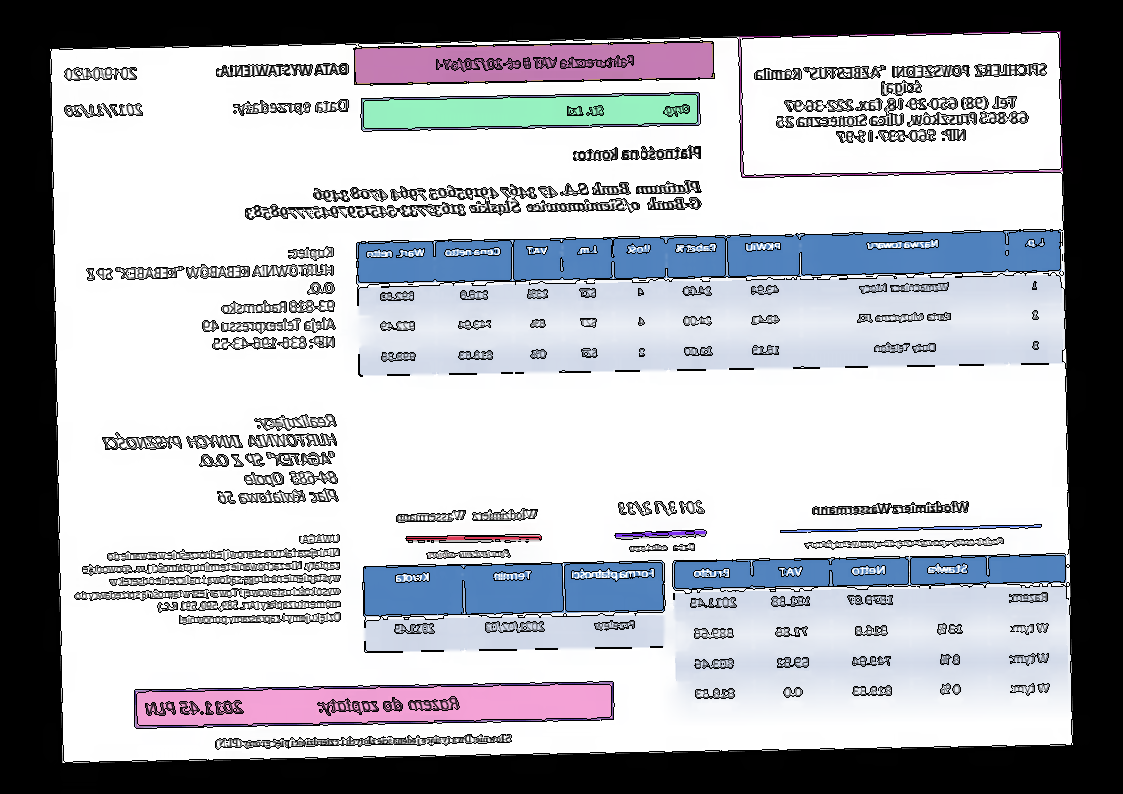Table: (354, 227, 1065, 378), (671, 552, 1071, 714), (360, 559, 667, 654)
TextBox: (84, 243, 338, 357), (69, 531, 344, 629), (751, 60, 1051, 148), (100, 409, 342, 512), (240, 177, 705, 224), (142, 691, 464, 722), (211, 729, 515, 752), (434, 51, 639, 74), (809, 495, 973, 520), (802, 532, 1007, 552), (213, 57, 349, 82), (571, 142, 704, 166), (392, 504, 543, 525), (563, 99, 692, 120), (230, 96, 350, 118), (616, 496, 708, 518), (64, 99, 147, 120), (61, 62, 140, 83), (424, 546, 513, 561), (626, 538, 701, 555)
